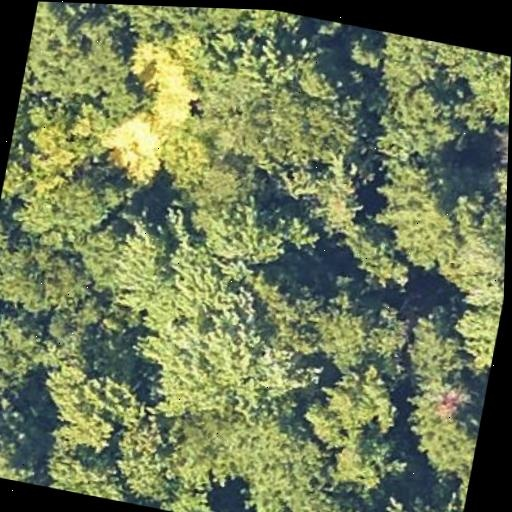tree-top: (132, 264, 313, 430), (183, 33, 372, 188), (20, 1, 144, 113), (370, 152, 477, 274), (175, 179, 301, 277), (303, 353, 410, 464), (227, 397, 324, 512), (36, 360, 139, 465), (75, 204, 177, 306), (0, 223, 92, 334), (368, 75, 471, 174), (15, 160, 120, 256), (401, 367, 488, 476), (13, 94, 113, 184), (104, 405, 189, 507), (299, 280, 387, 378), (441, 196, 507, 311), (321, 424, 407, 507), (432, 43, 511, 131), (398, 291, 465, 392), (43, 438, 145, 504), (300, 167, 383, 246), (137, 45, 209, 134), (354, 27, 438, 103), (334, 219, 415, 294), (43, 437, 132, 502), (173, 405, 239, 490), (161, 6, 297, 47), (0, 301, 58, 397), (97, 105, 171, 178), (465, 120, 509, 220), (444, 295, 502, 366), (0, 101, 36, 208), (270, 483, 393, 512), (94, 4, 179, 45), (0, 435, 59, 488), (377, 485, 461, 512), (163, 489, 248, 512), (0, 189, 12, 279)
